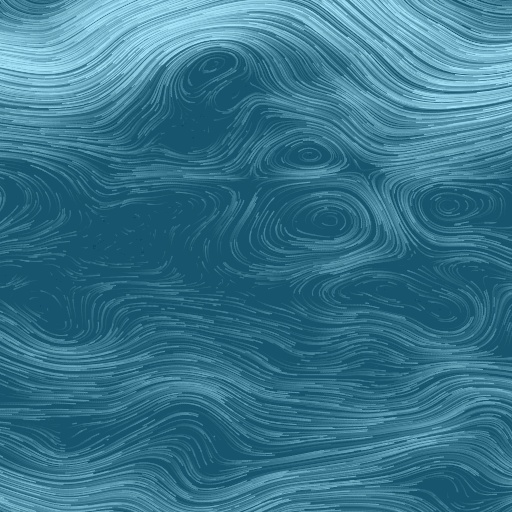eddy: (317, 269, 482, 344), (260, 180, 382, 259), (408, 179, 498, 235), (267, 132, 348, 176), (176, 45, 239, 101)
